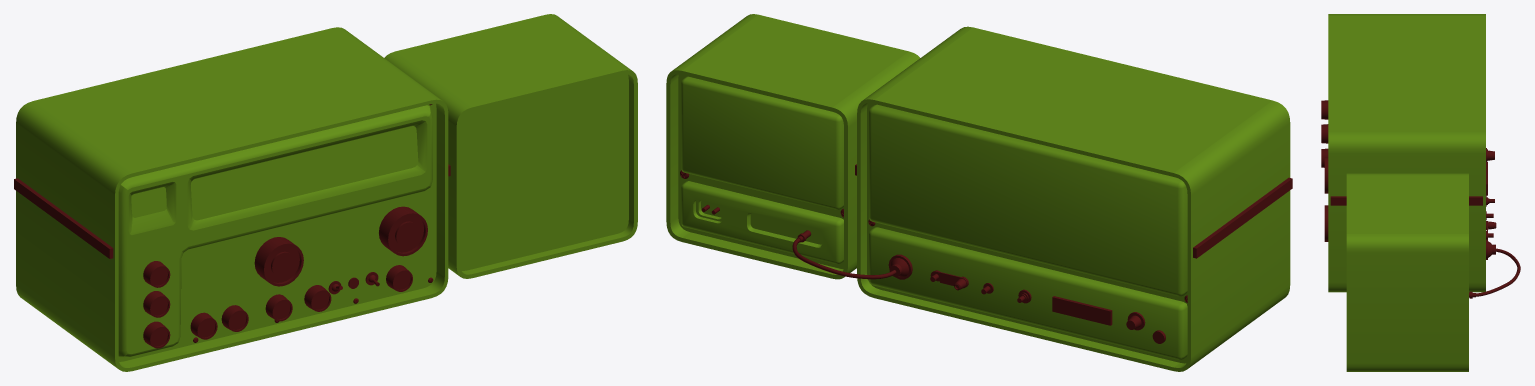
The model's file is NC109_radio_01.fbx.
3 renders of one model, left to right at view 1: azimuth 30°, elevation 25°; view 2: azimuth 150°, elevation 25°; view 3: azimuth 270°, elevation 25°, orthographic. The views are drawn at different scales.
Parts seen in each view (by area): view 1: NC109_radio_01; view 2: NC109_radio_01; view 3: NC109_radio_01.
Part boxes in pixels (bbox=[...]): NC109_radio_01: bbox=[14, 14, 637, 371]; NC109_radio_01: bbox=[666, 14, 1292, 371]; NC109_radio_01: bbox=[1321, 14, 1520, 371].
Bounding box in the file's own units: 85.69 × 31.57 × 34.48.
